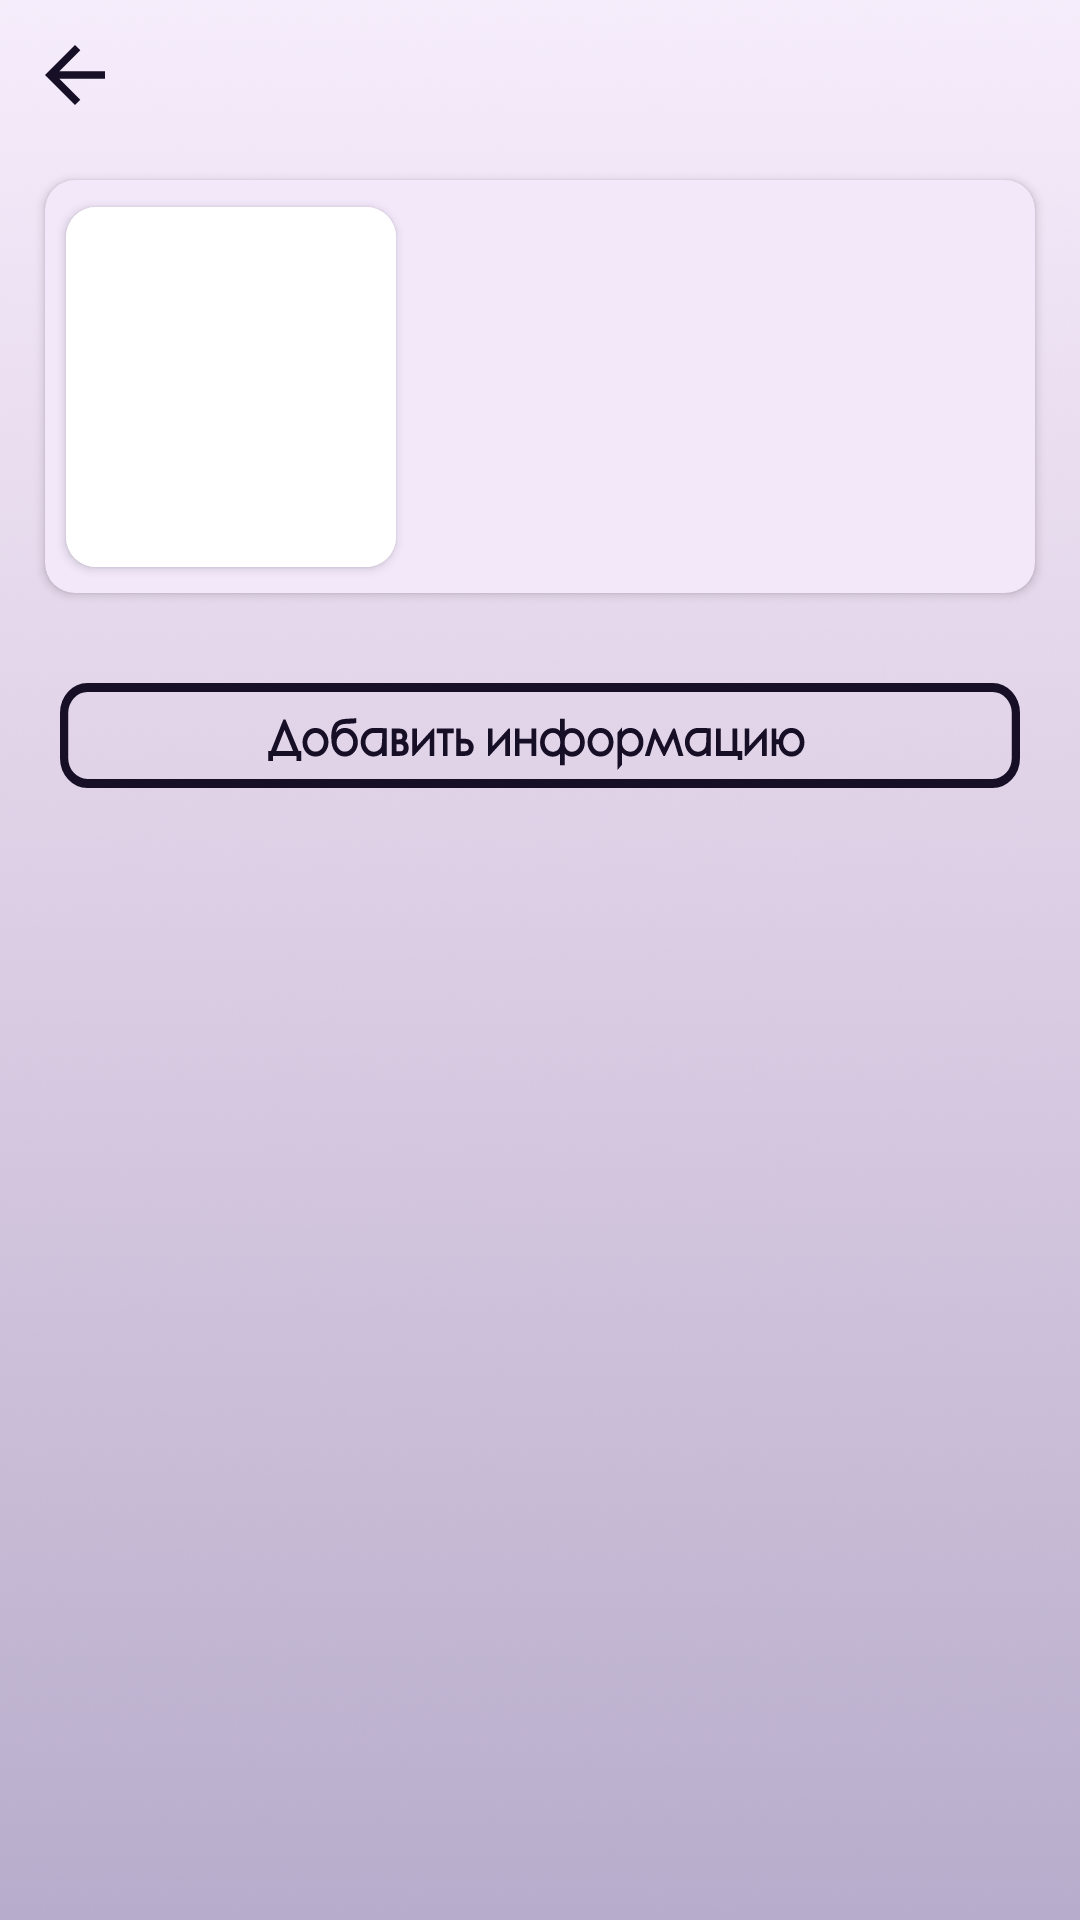

Icon bounding boxes for this 1080w x 1920h phone screenshot, format (x1, y1, x2, y2):
back: (45, 45, 105, 105)
